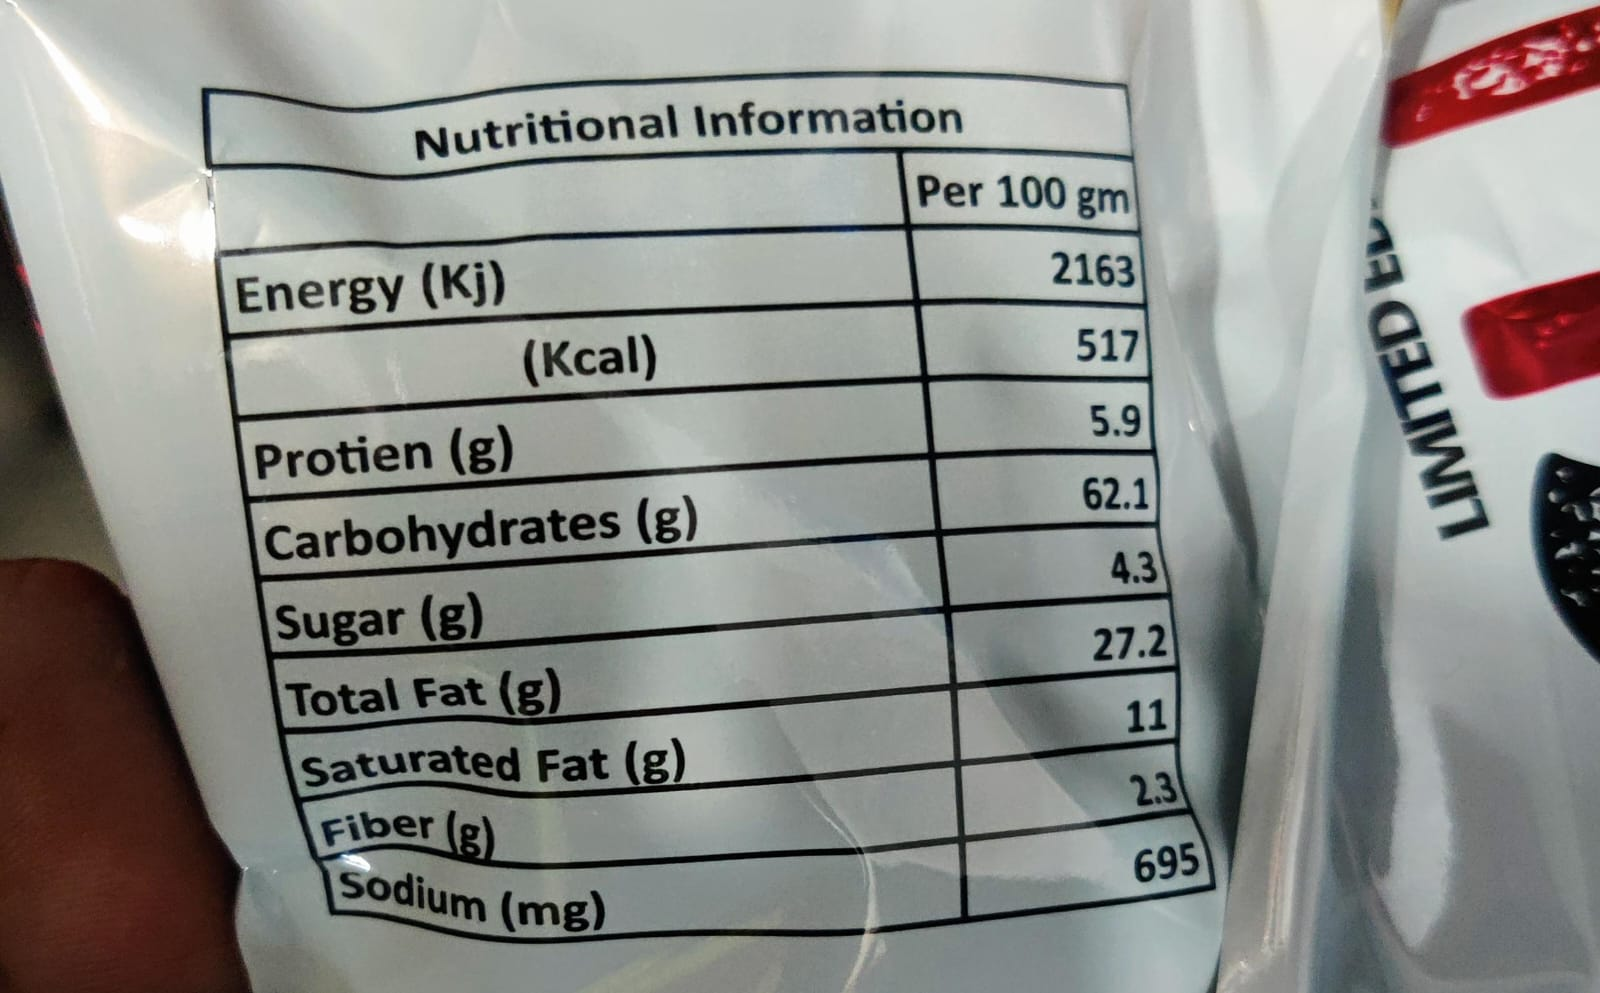table: (200, 67, 1218, 946)
